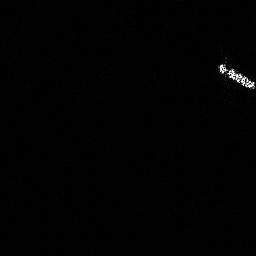ship: (215, 62, 256, 93)
